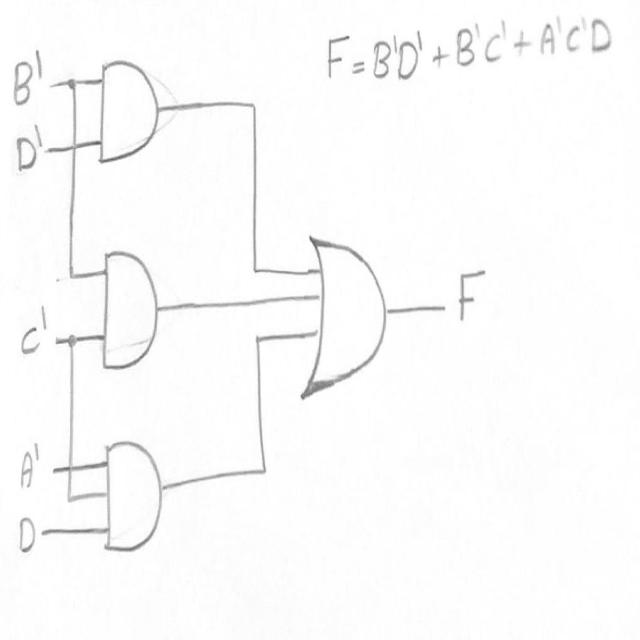AND: (88, 52, 178, 196), (94, 431, 175, 564), (96, 240, 166, 382)
OR: (295, 214, 406, 442)
